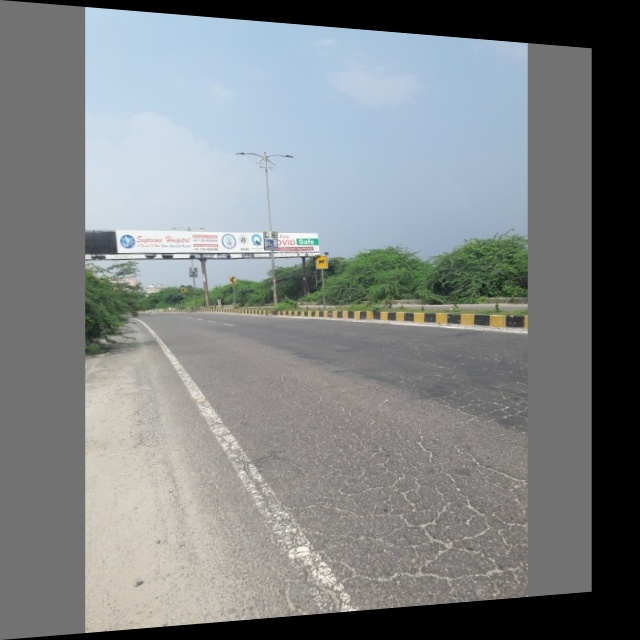Cattle: (313, 252, 331, 270)
